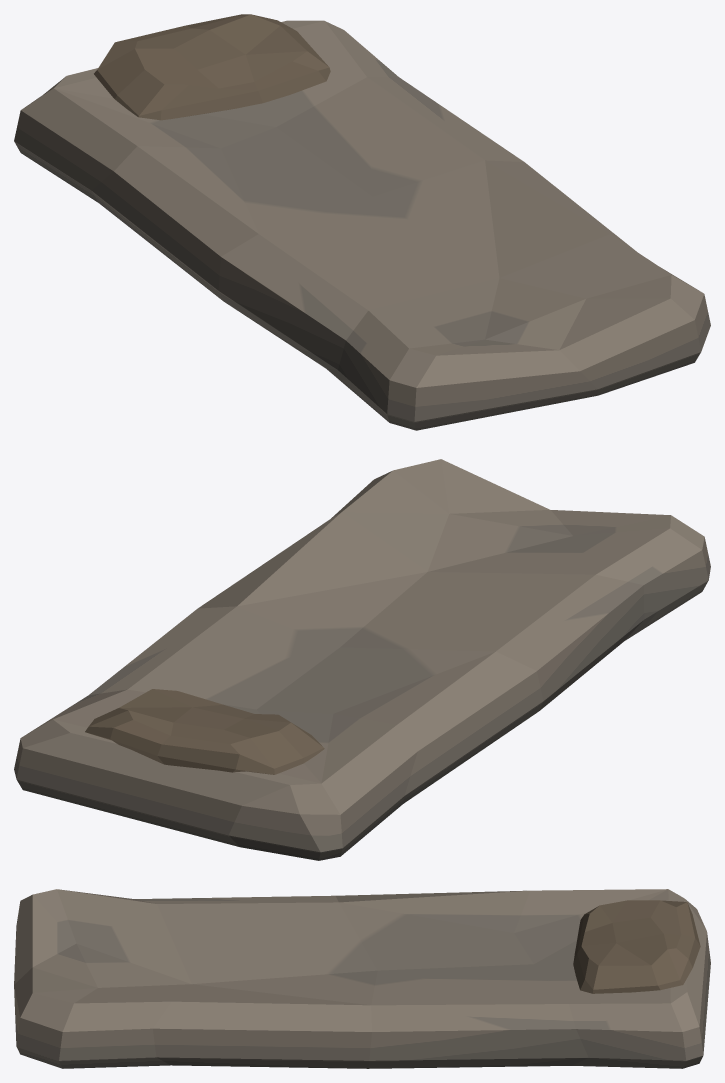
File: SM_Prop_Bed_Mattress_02.fbx
3 views of the same model, one above another, from view 1: azimuth 30°, elevation 25°; view 2: azimuth 150°, elevation 25°; view 3: azimuth 270°, elevation 25° (orthographic). The views are drawn at different scales.
Parts seen in each view (by area): view 1: SM_Prop_Bed_Mattress_02; view 2: SM_Prop_Bed_Mattress_02; view 3: SM_Prop_Bed_Mattress_02.
Part boxes in pixels (bbox=[...]): SM_Prop_Bed_Mattress_02: bbox=[14, 14, 710, 430]; SM_Prop_Bed_Mattress_02: bbox=[14, 459, 710, 860]; SM_Prop_Bed_Mattress_02: bbox=[14, 889, 710, 1068].
Bounding box in the file's own units: 89.96 × 25.43 × 189.
